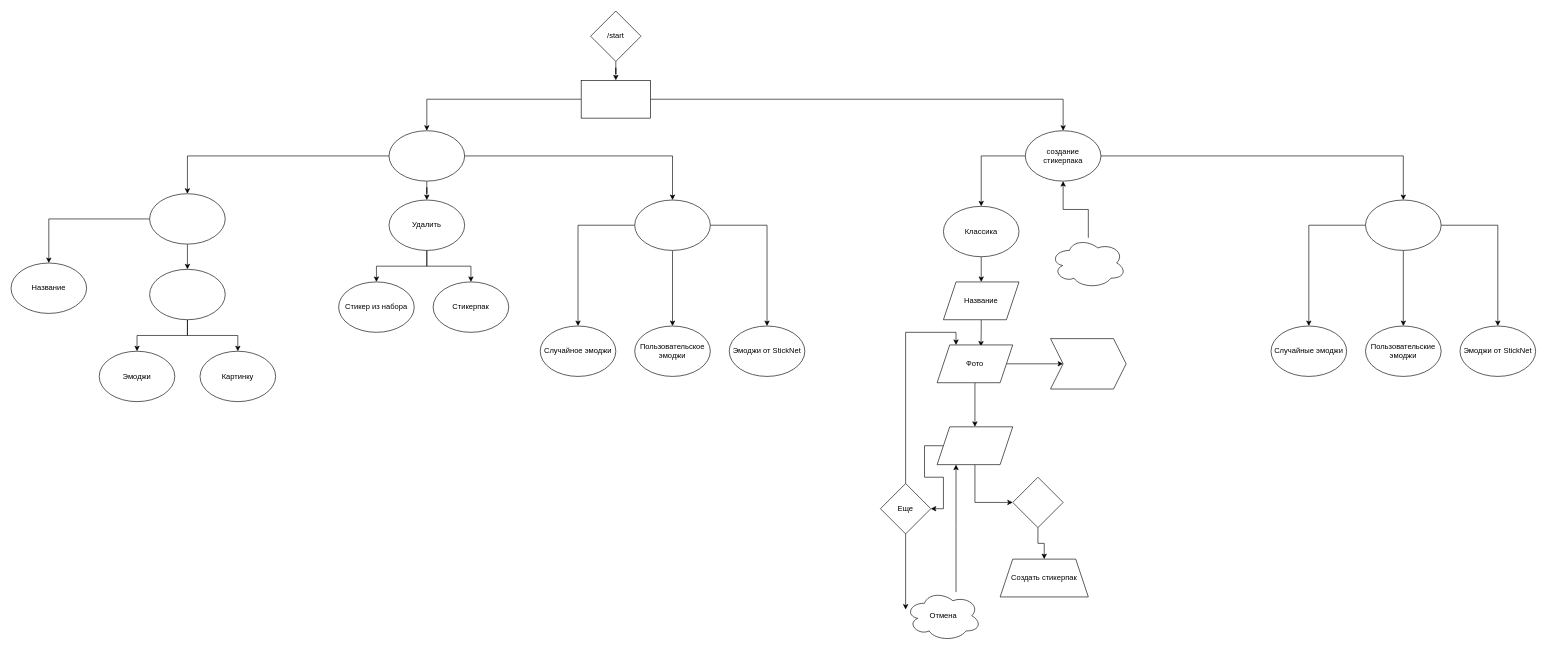
Image size: 1547x652. Some labels were removed from this diagram. Each missing label, with the centre of its shape:
emoji: the point at 974,445
Выйти: the point at 1088,262
Добавить стикер: the point at 672,224
Изменить: the point at 187,218
Конвейр: the point at 1403,224
Приветсвие: the point at 615,99
Ресайз: the point at 1088,363
Создать: the point at 1037,502
Стикер: the point at 187,294
управление стикерпаками: the point at 426,155
